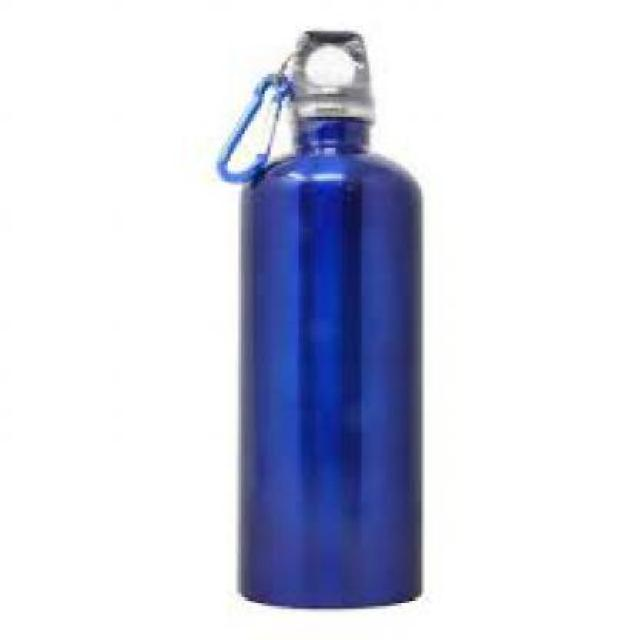Drinking: (210, 19, 441, 612)
